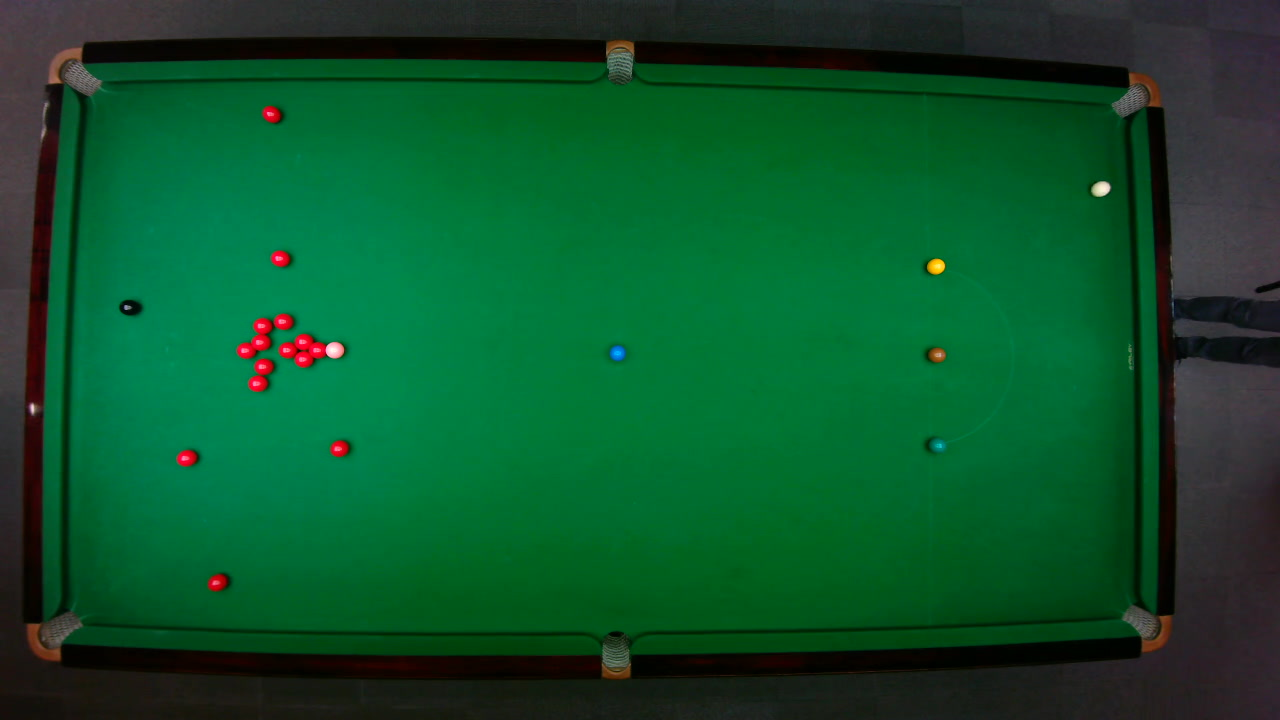bag: (25, 609, 83, 662), (45, 46, 102, 96), (1119, 602, 1171, 652), (1108, 71, 1162, 117), (600, 629, 630, 680), (605, 38, 633, 85)
black: (117, 298, 140, 315)
blue: (607, 343, 626, 361)
brown: (926, 346, 946, 362)
green: (926, 435, 946, 453)
pink: (323, 340, 345, 359)
red: (174, 448, 198, 467), (206, 572, 229, 591), (261, 105, 282, 123), (251, 316, 272, 334), (269, 249, 290, 267), (272, 312, 293, 330), (292, 350, 314, 367), (252, 357, 274, 374), (246, 374, 268, 391), (277, 340, 297, 358), (329, 439, 349, 457), (249, 333, 270, 350), (235, 341, 256, 358), (293, 332, 313, 349), (308, 340, 325, 358)
white: (1089, 179, 1111, 196)
yellow: (925, 257, 945, 274)
zone: (927, 266, 1013, 445)
